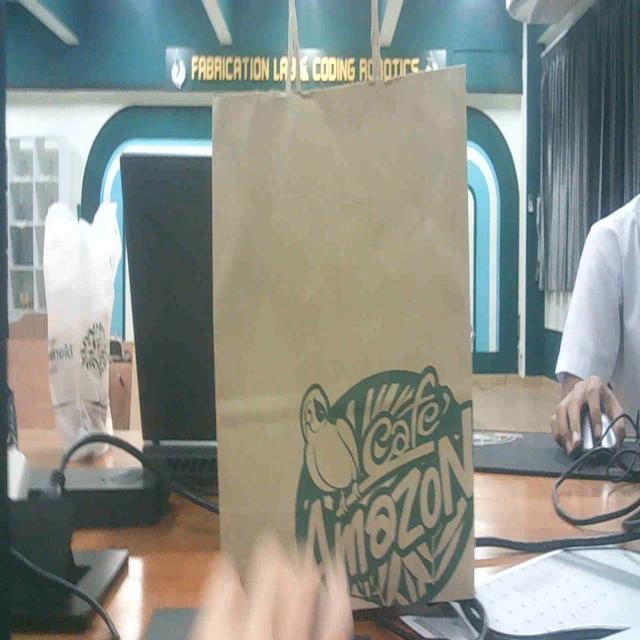bag: (183, 54, 509, 620)
